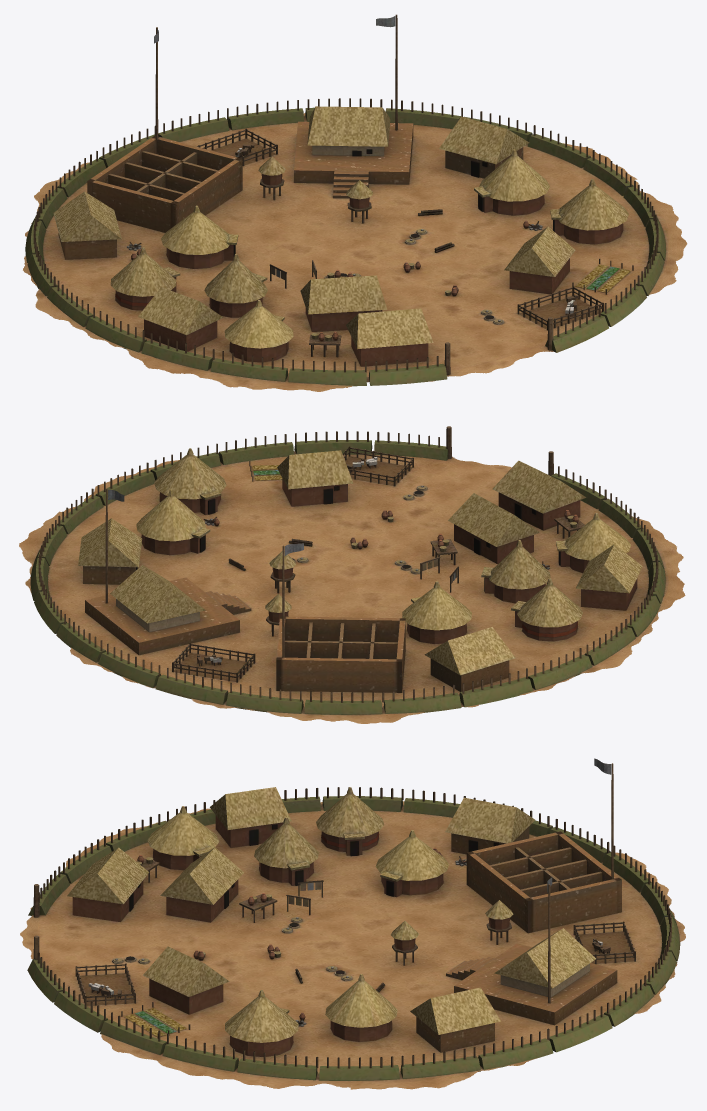
Rendered from stone-town-medium-a-indic.glb.
3 views of the same model, one above another, from view 1: azimuth 30°, elevation 25°; view 2: azimuth 150°, elevation 25°; view 3: azimuth 270°, elevation 25° (orthographic). The views are drawn at different scales.
Visible parts, largest first — view 1: LOD0; view 2: LOD0; view 3: LOD0.
Boxes of the visible parts, x1,y1,x2,y2 form: LOD0: (23, 14, 687, 391); LOD0: (19, 426, 685, 723); LOD0: (20, 758, 685, 1089).
Size of what is drawn, in the model's own units: 6 by 1.4 by 5.73.
3 materials, 3 textured.
